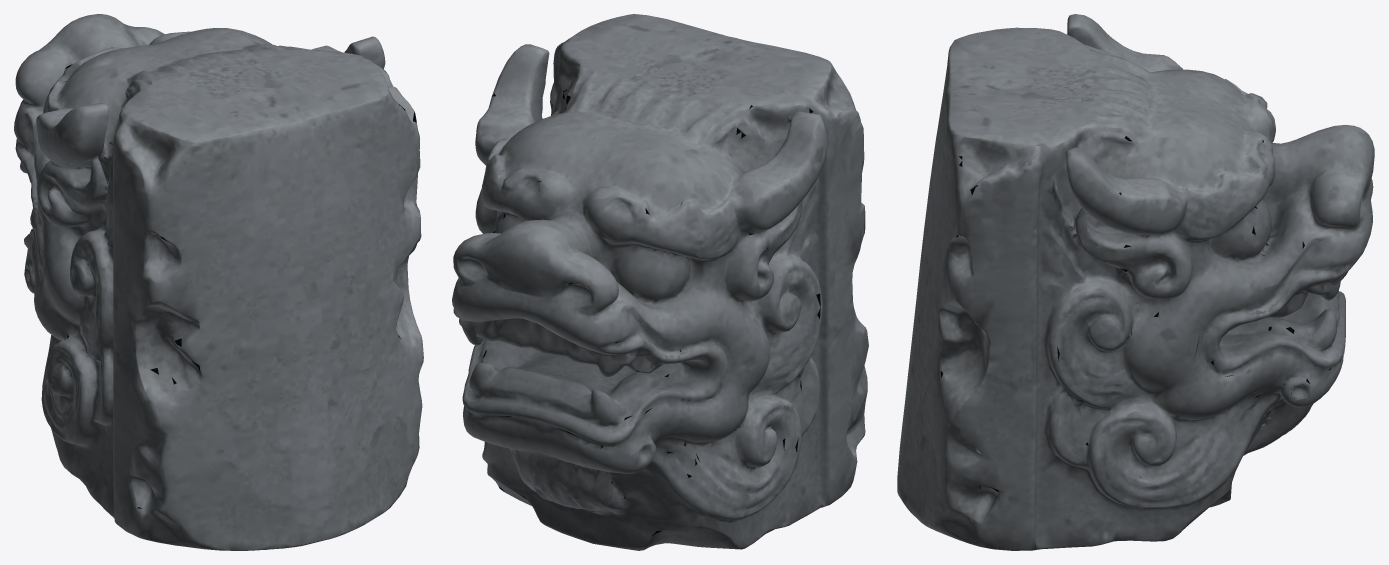
File: dragon-stone-lite.glb
The picture shows the model from 3 angles, left to right: view 1: azimuth 30°, elevation 25°; view 2: azimuth 150°, elevation 25°; view 3: azimuth 270°, elevation 25°; orthographic projection.
Visible parts, largest first — view 1: Carved dragon stone web; view 2: Carved dragon stone web; view 3: Carved dragon stone web.
Boxes of the visible parts, x1,y1,x2,y2 form: Carved dragon stone web: (14,14,423,550); Carved dragon stone web: (452,14,868,550); Carved dragon stone web: (897,14,1374,550).
Size of the model in its own units: 0.7697 by 0.9461 by 1.
Materials: 1 (1 with a texture image).
